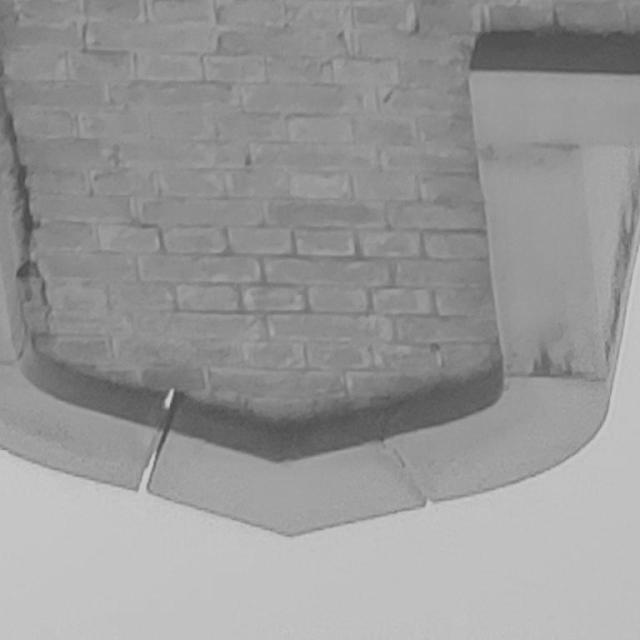crack: (1, 88, 52, 350)
